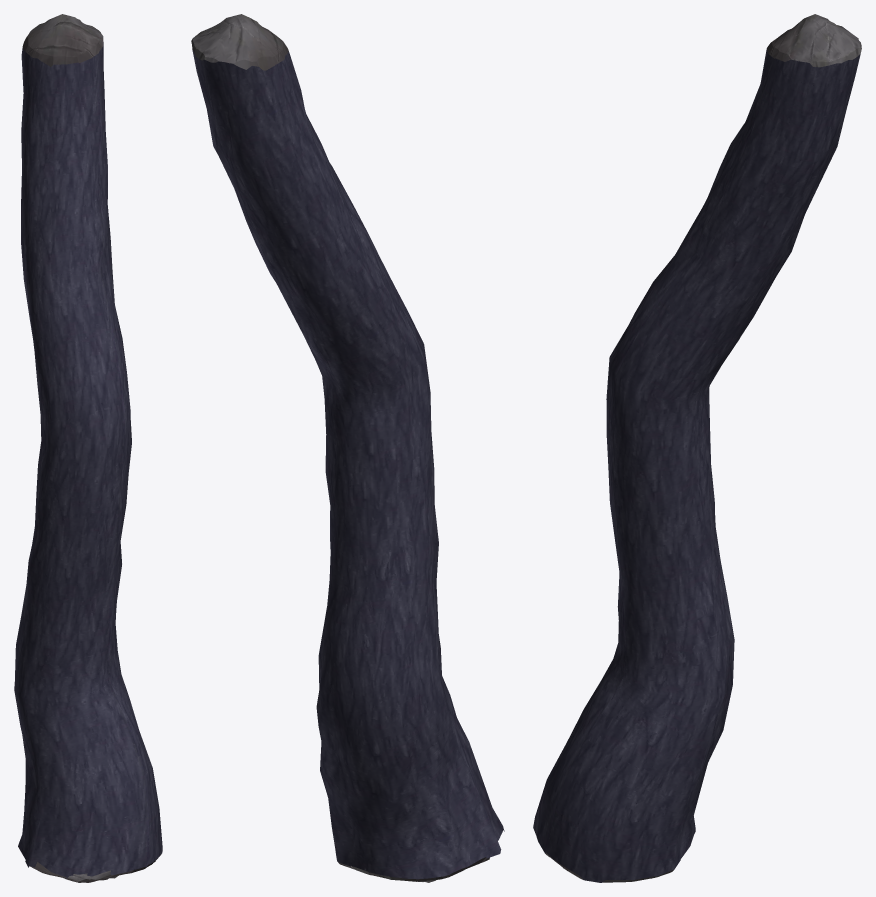
The picture shows the model from 3 angles, left to right: view 1: azimuth 30°, elevation 25°; view 2: azimuth 150°, elevation 25°; view 3: azimuth 270°, elevation 25°; orthographic projection. The views are drawn at different scales.
Visible parts, largest first — view 1: SM_Willow_01_tree_quarters_bottom_LOD0; view 2: SM_Willow_01_tree_quarters_bottom_LOD0; view 3: SM_Willow_01_tree_quarters_bottom_LOD0.
Part boxes in pixels (x1=…): SM_Willow_01_tree_quarters_bottom_LOD0: x1=14, y1=14, x2=162, y2=882; SM_Willow_01_tree_quarters_bottom_LOD0: x1=191, y1=14, x2=504, y2=882; SM_Willow_01_tree_quarters_bottom_LOD0: x1=533, y1=14, x2=861, y2=882.
Bounding box in the file's own units: 1.52 × 6.93 × 2.31.
Materials: 1 (1 with a texture image).
